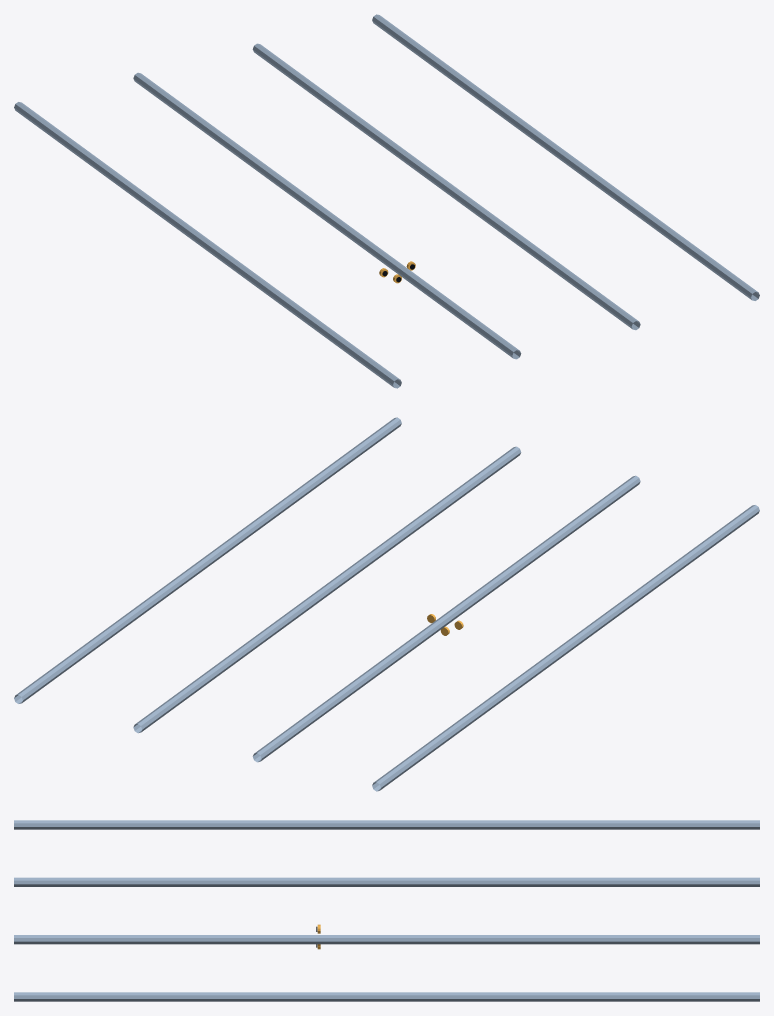
File: 13_L91_TimingInstrumentAccessBridge.fbx
The picture shows the model from 3 angles, top to bottom: view 1: azimuth 30°, elevation 25°; view 2: azimuth 150°, elevation 25°; view 3: azimuth 270°, elevation 25°; orthographic projection.
Parts seen in each view (by area): view 1: L91_TimingInstrumentAccessBridge; view 2: L91_TimingInstrumentAccessBridge; view 3: L91_TimingInstrumentAccessBridge.
Boxes of the visible parts, x1,y1,x2,y2 form: L91_TimingInstrumentAccessBridge: [14, 14, 759, 388]; L91_TimingInstrumentAccessBridge: [14, 417, 759, 791]; L91_TimingInstrumentAccessBridge: [14, 820, 759, 1001].
Size of the model in its own units: 615 by 88 by 1100.
